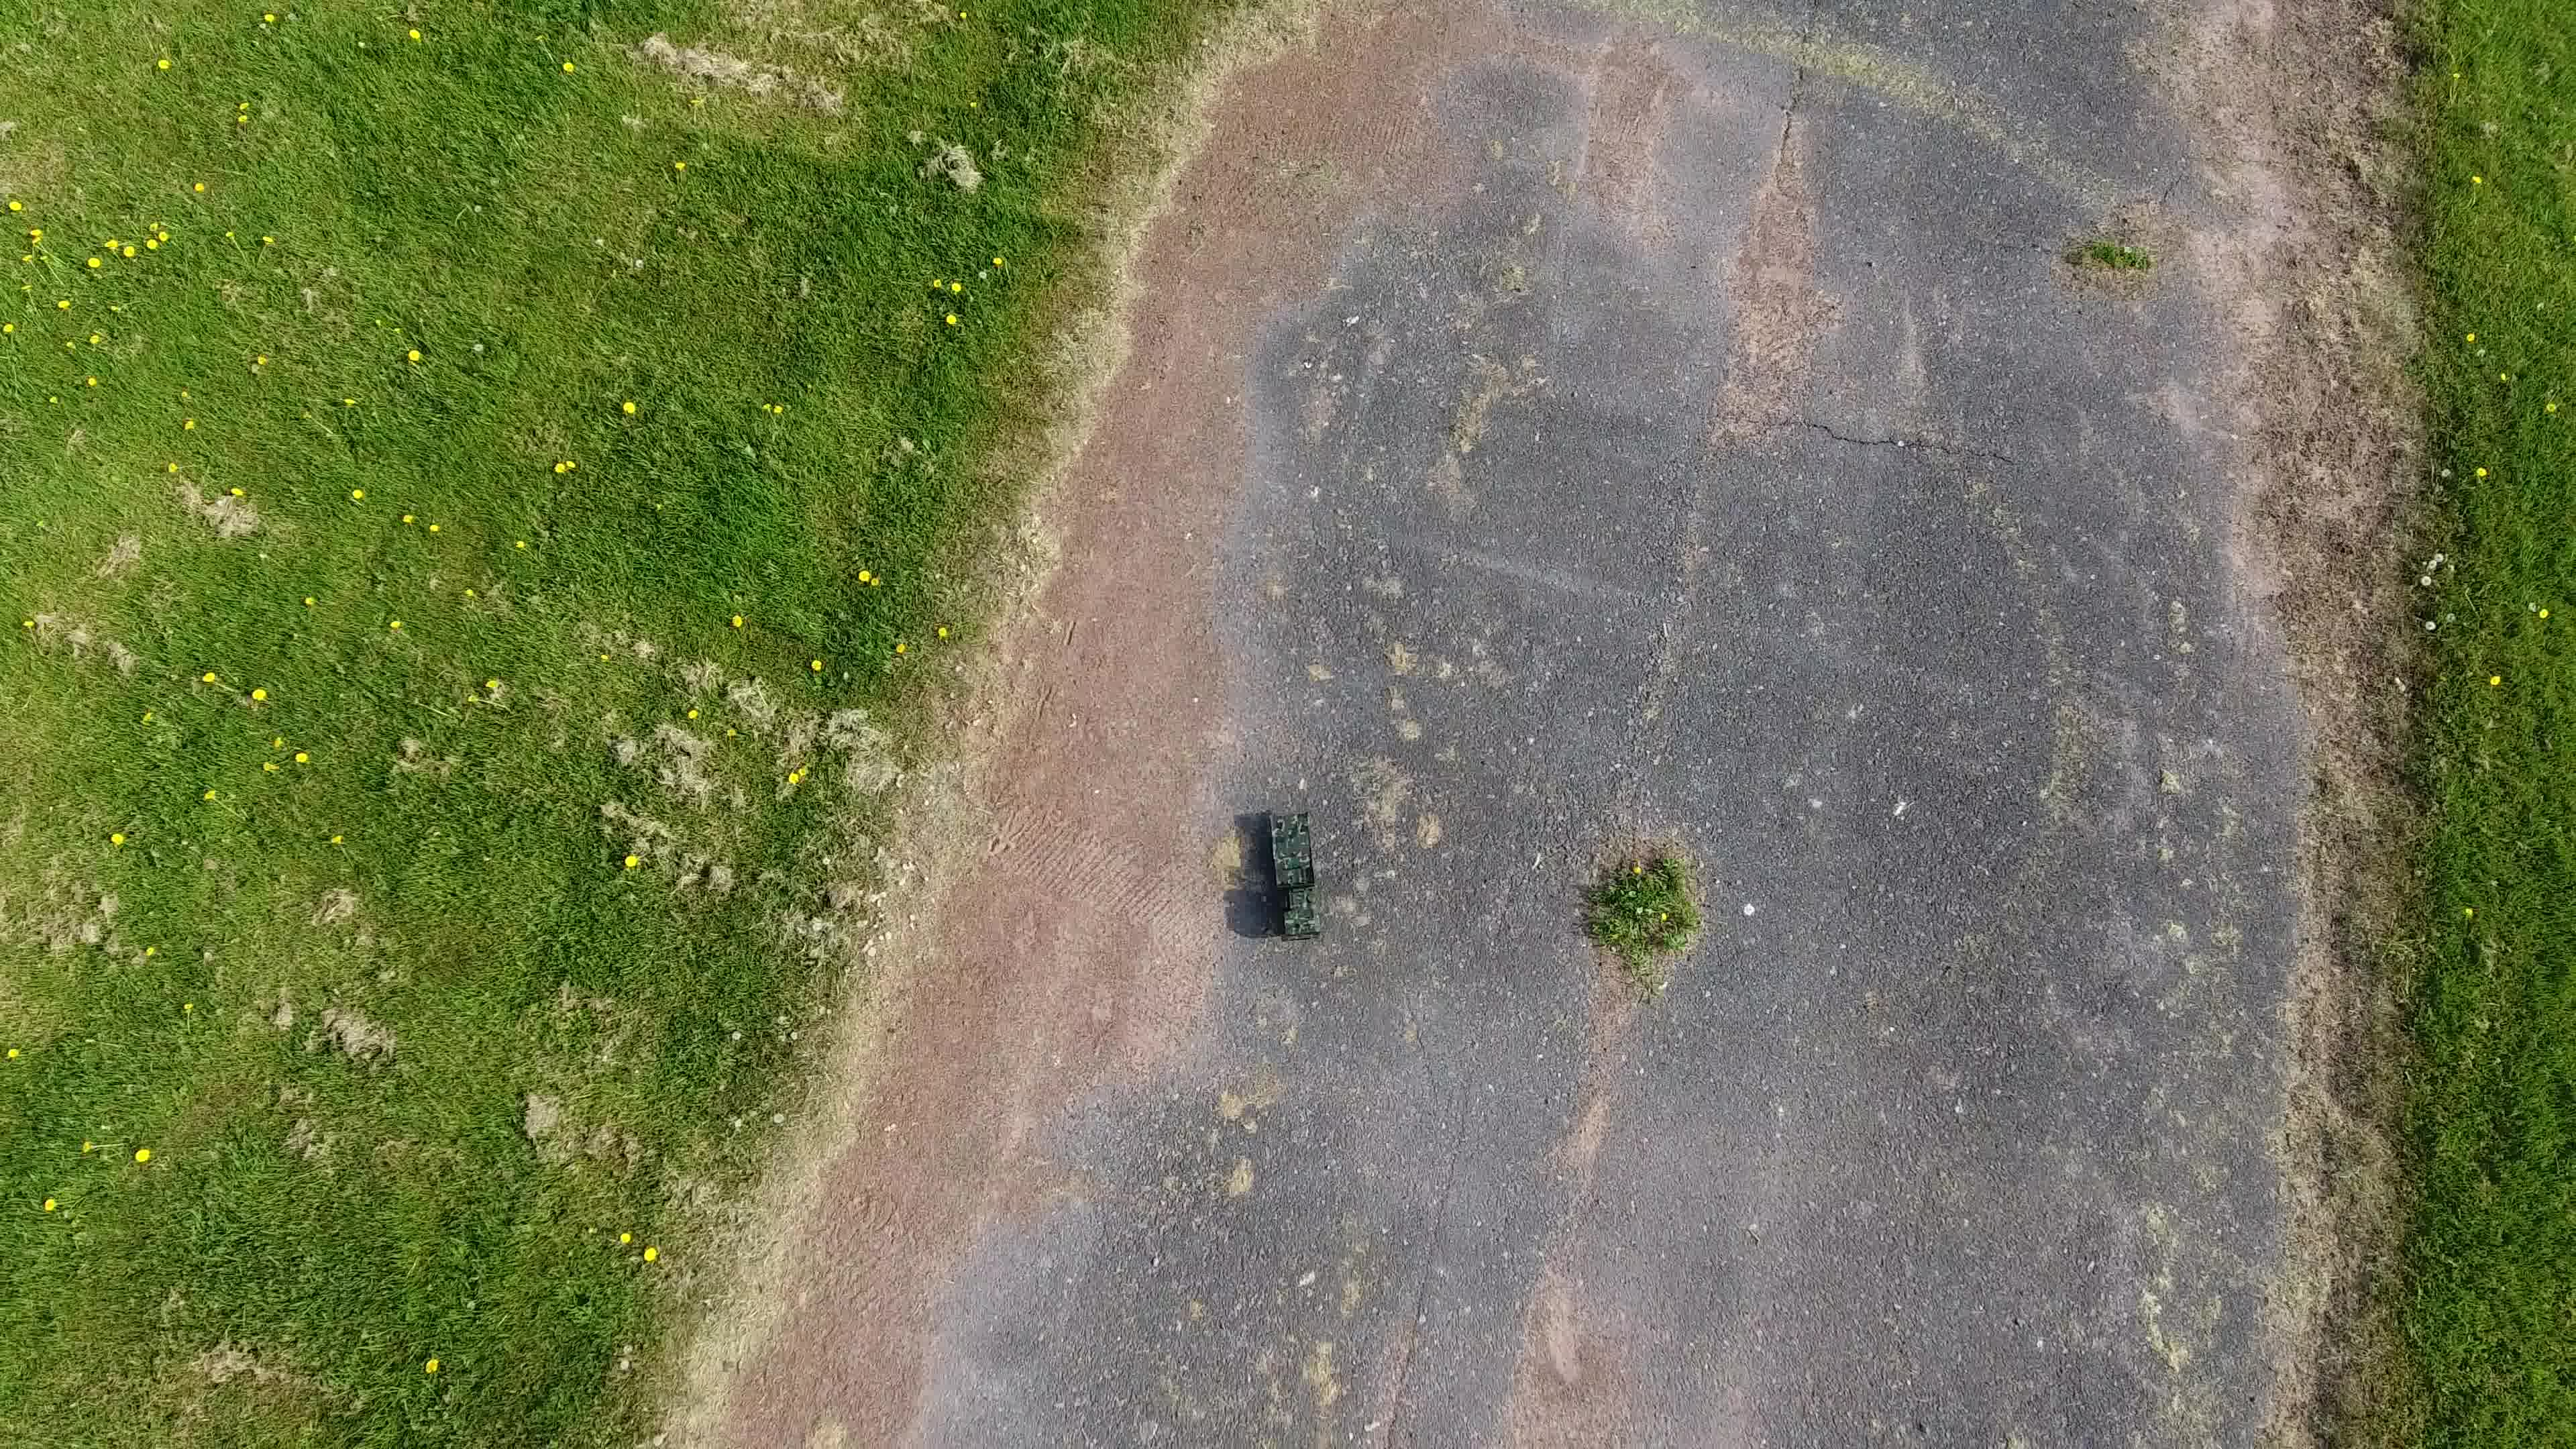transporter9: (1263, 807, 1327, 945)
